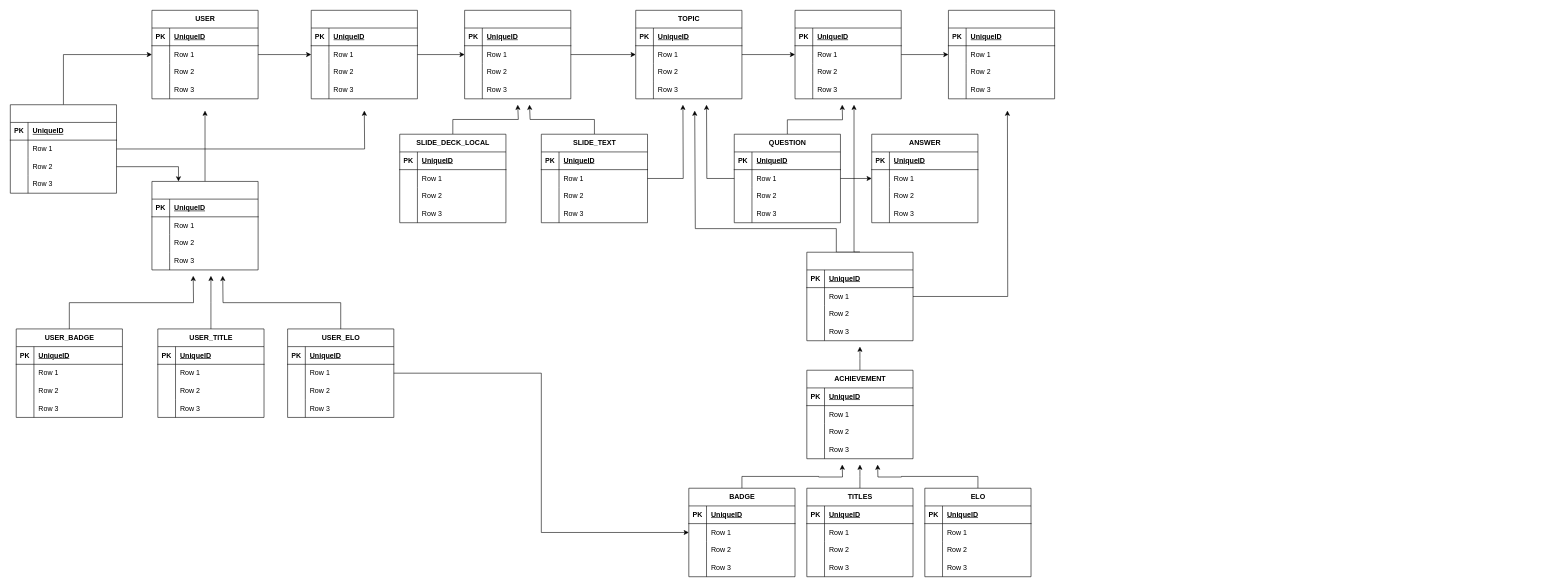
Image size: 1555x587. Some labels were removed from this diagram. Each missing label, with the box of its shape:
CHALLENGE: (806, 252, 913, 341)
GRAPH_DATA: (10, 104, 117, 193)
LECTURE_COURSE_TOPICS: (464, 10, 571, 99)
SEMESTER: (311, 10, 417, 99)
SUBMISSION: (948, 10, 1055, 99)
TOPIC_QUESTION: (794, 10, 901, 99)
USER_PROGRESS: (151, 181, 258, 270)
